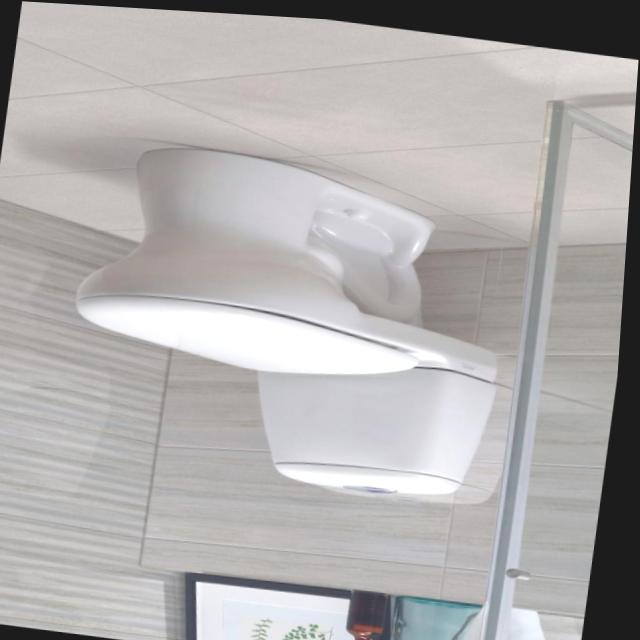toilet: (57, 132, 528, 505)
